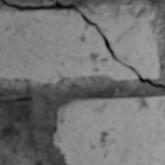brick: (53, 94, 164, 164), (0, 97, 34, 164)
broken_brick: (0, 9, 137, 81), (85, 13, 158, 77)
crack: (1, 0, 163, 86)
